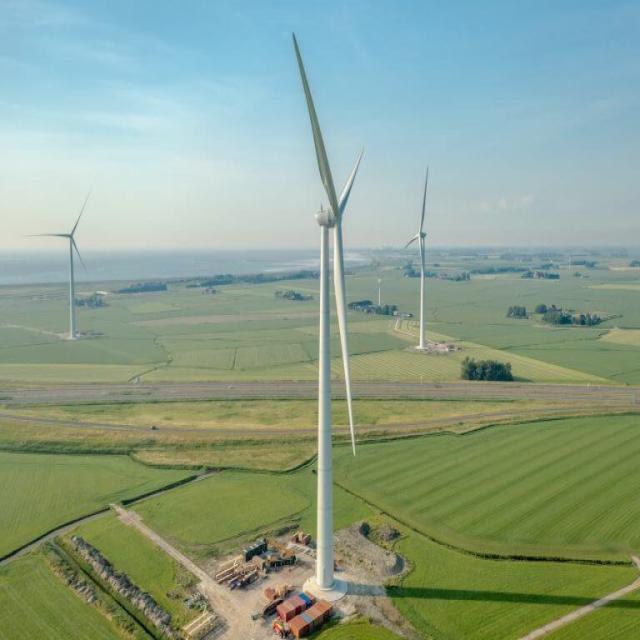solid-blade: (293, 34, 339, 219), (334, 218, 356, 455), (338, 148, 363, 217)
wind-turbine: (293, 36, 362, 592)
